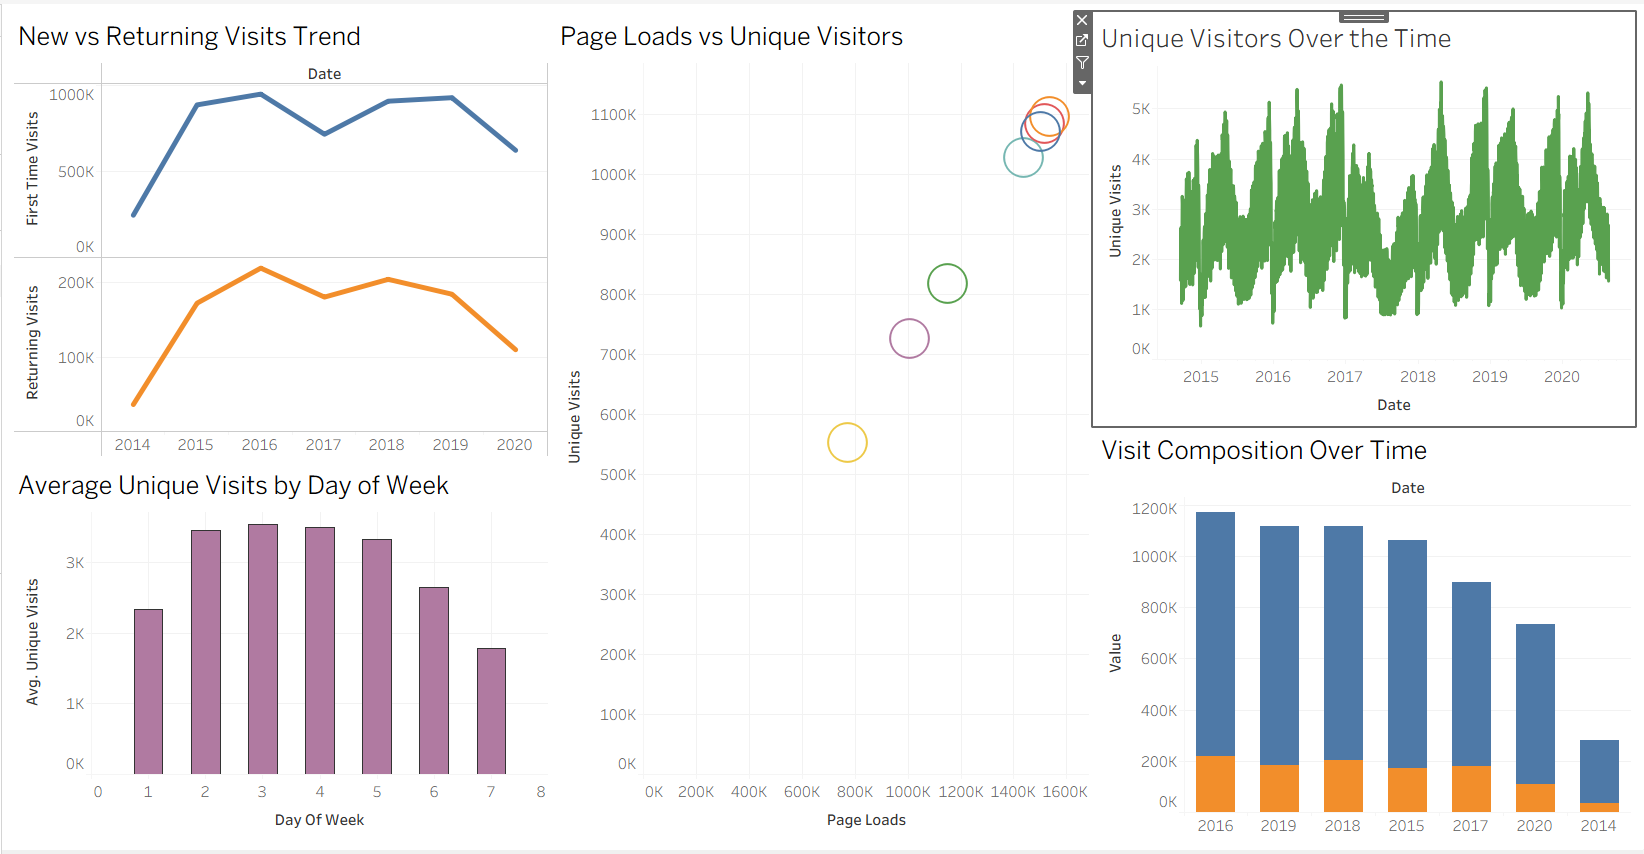

The dashboard page shown, as its layout file describes it:
{"tool":"tableau","page":{"name":"Dashboard 1","canvas":[1000,1000],"units":"permille","ordinal":0},"visuals":[{"type":"worksheet","title":"Sheet 2","mark":"Automatic","rows":["First_Time_Visits","Returning_Visits"],"cols":["Date"],"box":[4.8,10,330.1,530.3]},{"type":"worksheet","title":"Sheet 4","mark":"Automatic","rows":["Unique_Visits"],"cols":["Page_Loads"],"box":[334.9,10,330.1,980]},{"type":"worksheet","title":"Sheet 1","mark":"Automatic","rows":["Unique_Visits"],"cols":["Date"],"box":[665,10,330.2,490]},{"type":"worksheet","title":"Sheet 5","mark":"Bar","cols":["Date"],"box":[665,500,330.2,490]},{"type":"worksheet","title":"Sheet 3","mark":"Bar","rows":["Unique_Visits"],"cols":["Day_Of_Week"],"box":[4.8,540.3,330.1,449.7]}]}

Visuals, with their boxes on the dashboard's canvas, which has no fixed pixel size, in thousandths of its width and height (x1, y1, x2, y2). These are canvas units, not pixel positions in the 1644x854 screenshot, which may show the page scaled, cropped or inside an application window:
"Sheet 2" worksheet: {"left": 5, "top": 10, "right": 335, "bottom": 540}
"Sheet 4" worksheet: {"left": 335, "top": 10, "right": 665, "bottom": 990}
"Sheet 1" worksheet: {"left": 665, "top": 10, "right": 995, "bottom": 500}
"Sheet 5" worksheet (Bar marks): {"left": 665, "top": 500, "right": 995, "bottom": 990}
"Sheet 3" worksheet (Bar marks): {"left": 5, "top": 540, "right": 335, "bottom": 990}
